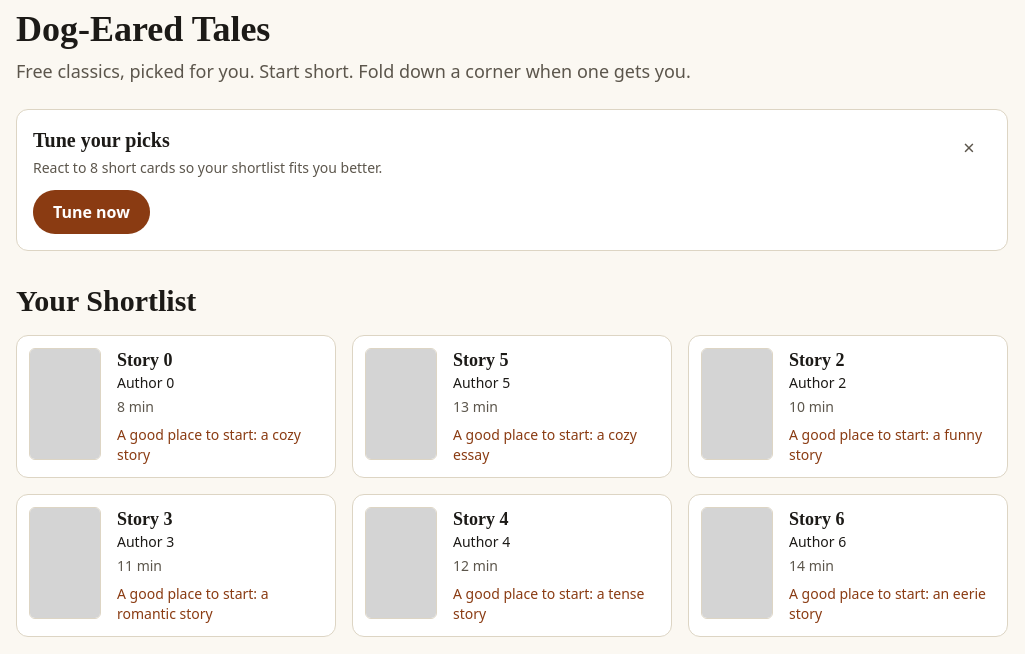
Test: the Tune your picks card › can be dismissed, and stays dismissed
Click the button named "Dismiss Tune your picks": (969,148) x1=947 y1=126 x2=991 y2=170
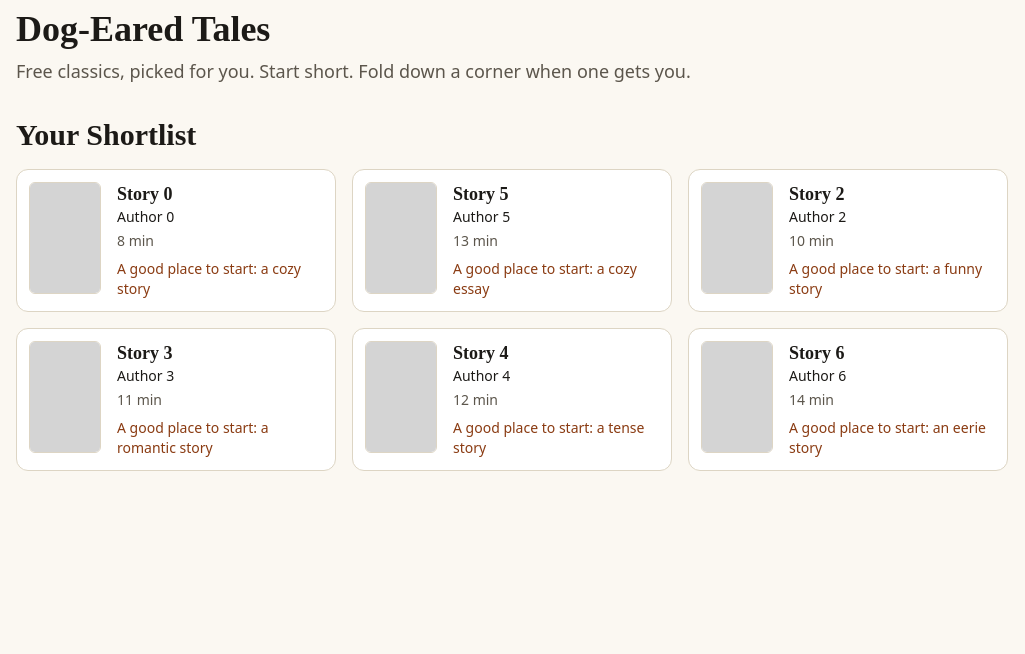
Result: the heading "Tune your picks" is gone
